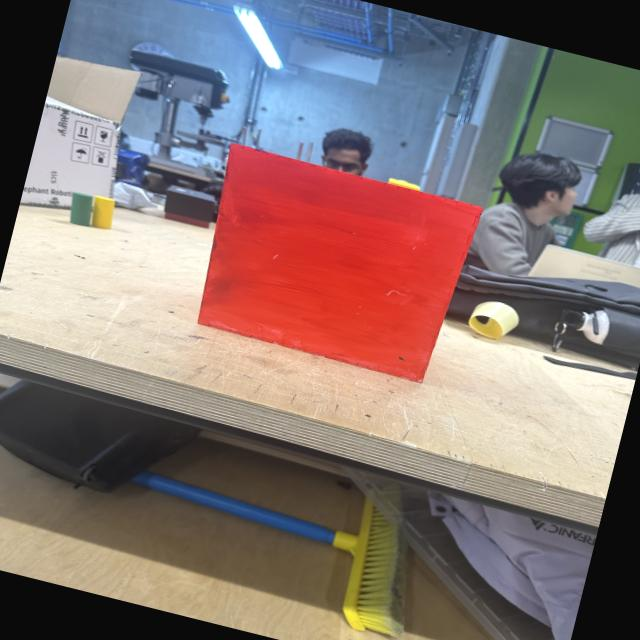red_bin: (182, 141, 488, 390)
